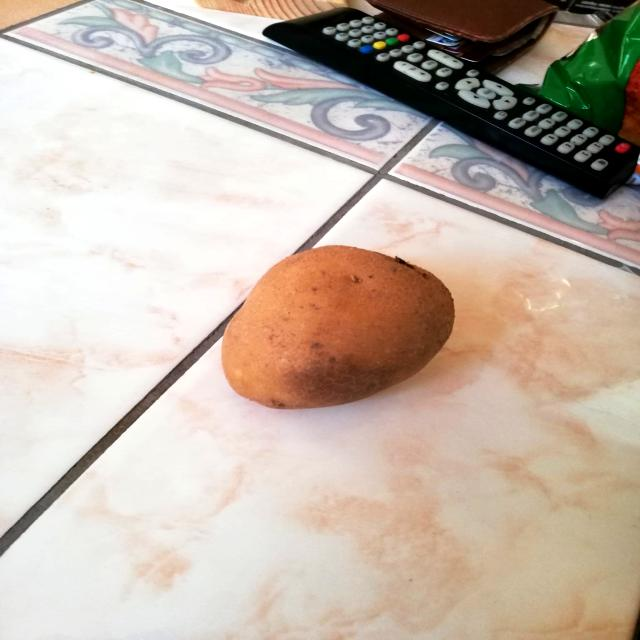potato: (210, 234, 469, 417)
